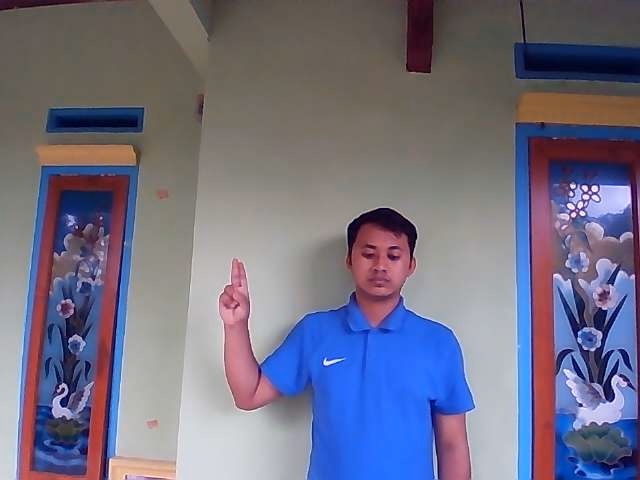U: (217, 257, 251, 325)
